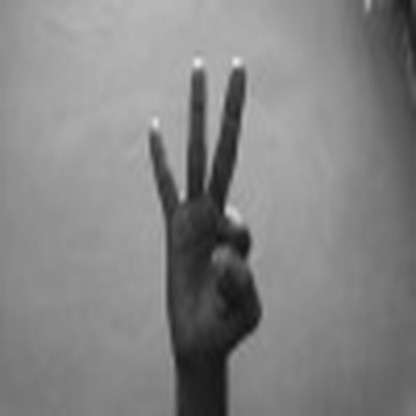f: (130, 44, 283, 353)
